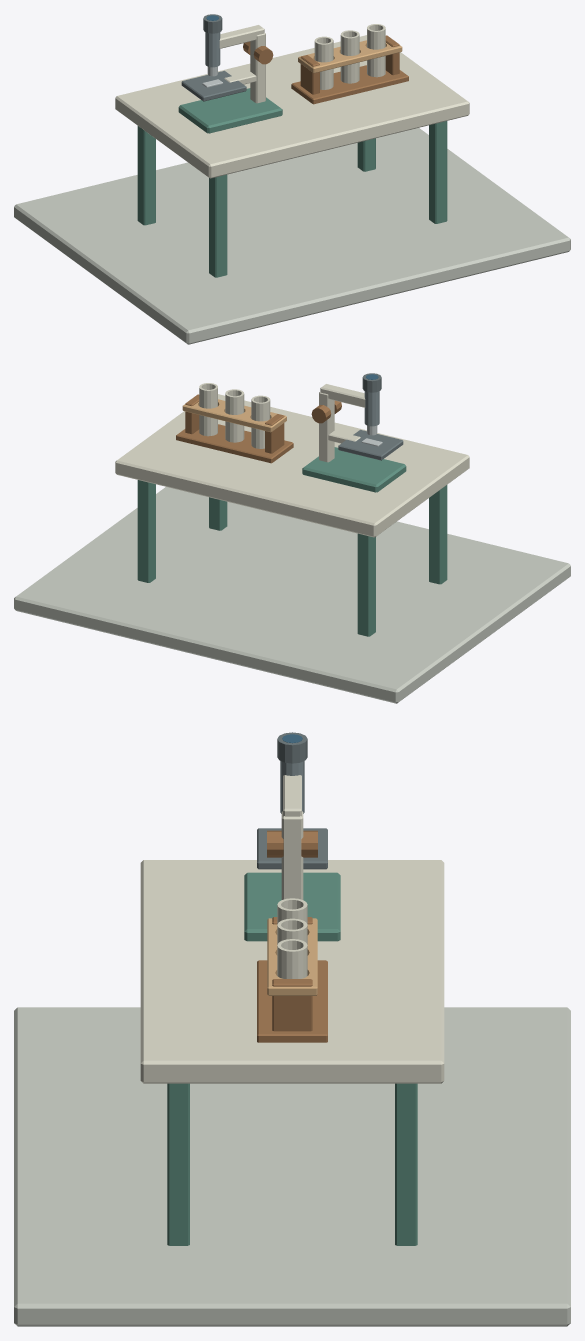
3 views of the same model, one above another, from view 1: azimuth 30°, elevation 25°; view 2: azimuth 150°, elevation 25°; view 3: azimuth 270°, elevation 25° (orthographic). The views are drawn at different scales.
Visible parts, largest first — view 1: laboratory-observation-corner-01; view 2: laboratory-observation-corner-01; view 3: laboratory-observation-corner-01.
Part boxes in pixels (x1=…): laboratory-observation-corner-01: x1=14, y1=14, x2=570, y2=344; laboratory-observation-corner-01: x1=14, y1=373, x2=570, y2=703; laboratory-observation-corner-01: x1=14, y1=732, x2=570, y2=1326.
Bounding box in the file's own units: 2.8 × 1.65 × 2.2.
